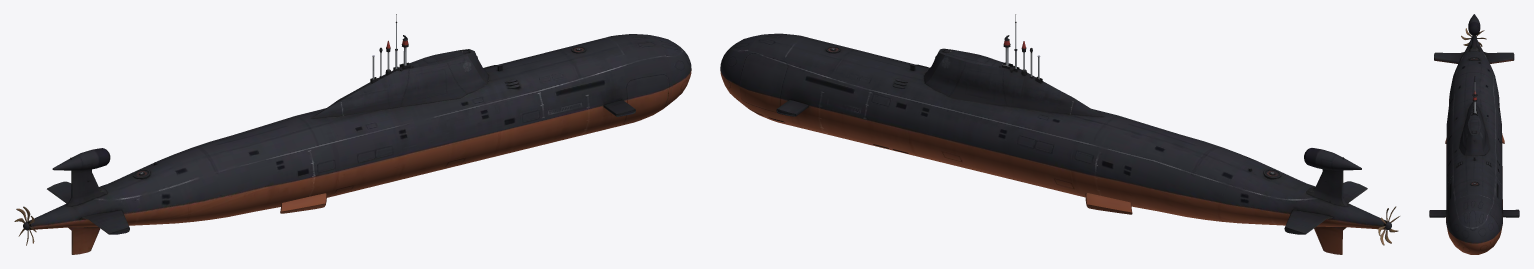
The model's file is ru-shuka.glb.
3 renders of one model, left to right at view 1: azimuth 30°, elevation 25°; view 2: azimuth 150°, elevation 25°; view 3: azimuth 270°, elevation 25°, orthographic. The views are drawn at different scales.
Visible parts, largest first — view 1: root; view 2: root; view 3: root.
Boxes of the visible parts, x1,y1,x2,y2 form: root: (14, 14, 691, 254); root: (720, 14, 1399, 254); root: (1429, 14, 1519, 254).
Bounding box in the file's own units: 107 × 24.84 × 19.71.
Materials: 1 (1 with a texture image).
